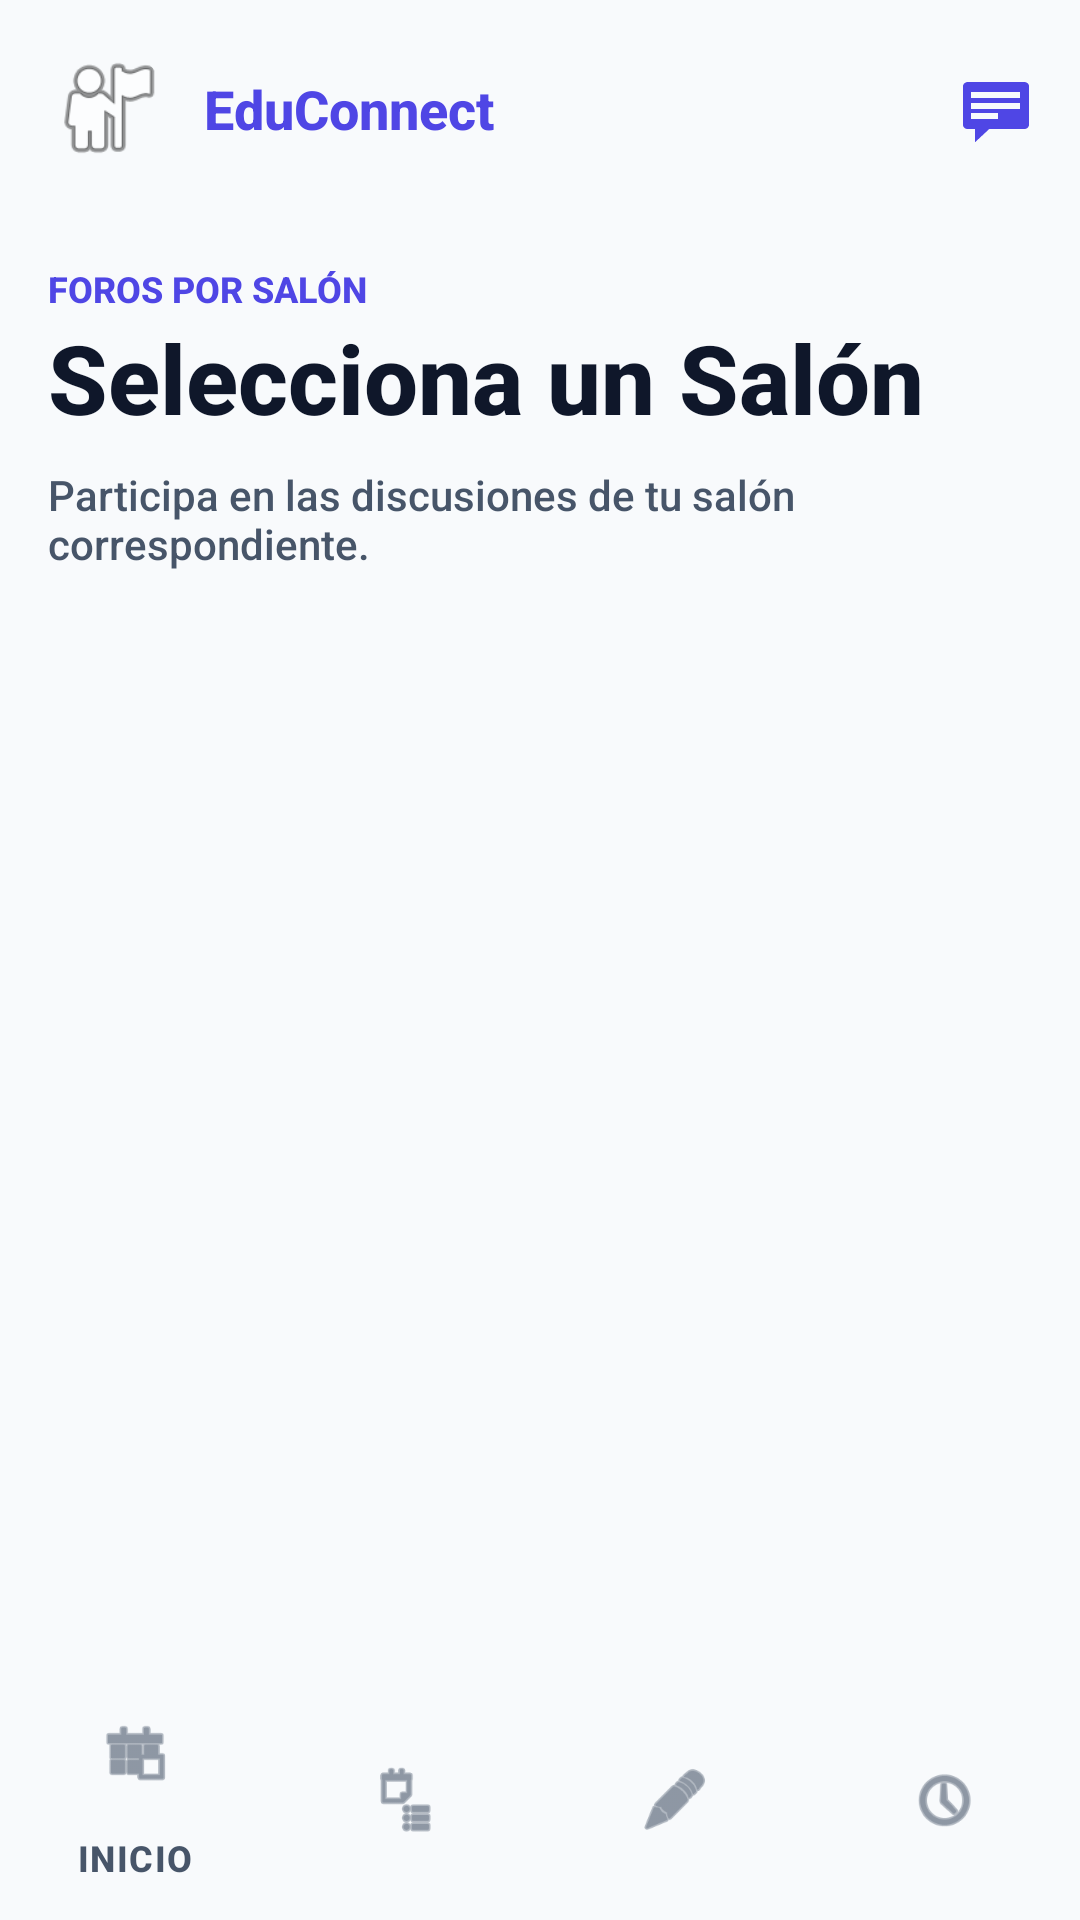

Icon click points for this 1080px x 1920px phone screenshot, format point (x, y):
chat: point (996, 112)
